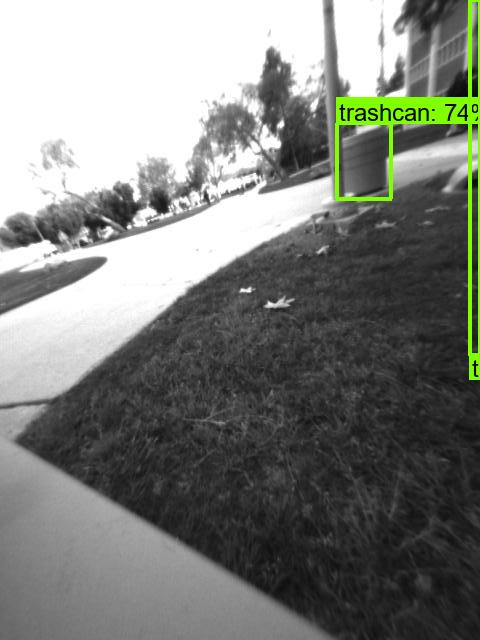trashcan: (339, 122, 393, 196)
